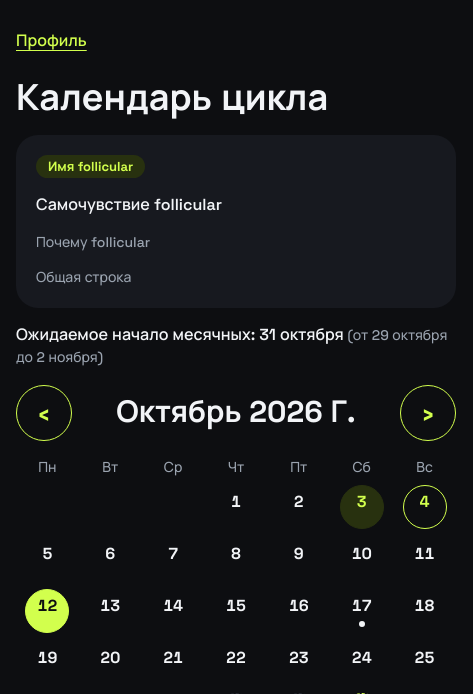
Test: режимы › low_confidence — сетка есть, отмечать можно
This screenshot has width=473, height=694.
Click the button "10".
click(362, 559)  # box [340,537,384,581]
(page scrolled)
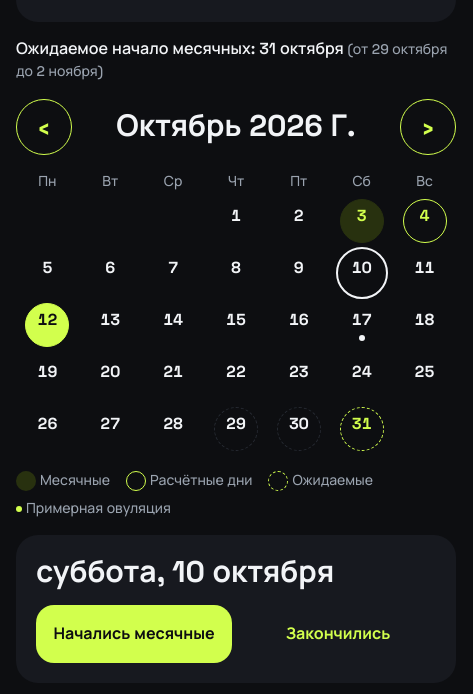
Now the button "Начались месячные" is enabled, box [36,605,232,663]
